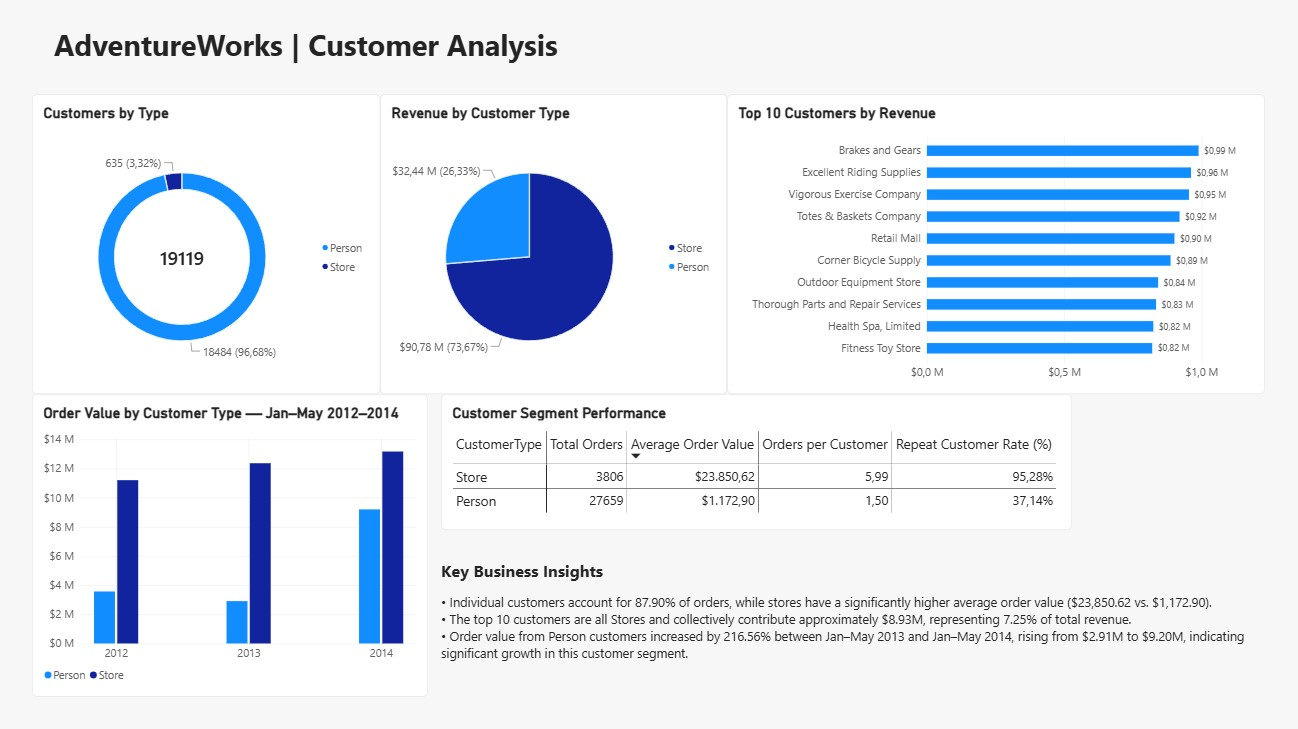

This screenshot's page, from the dashboard's own definition file:
{"tool":"powerbi","page":{"name":"Customer Analysis","canvas":[1920,1080],"ordinal":2},"visuals":[{"type":"donutChart","title":"Customers by Type","fields":{"Category":["DimCustomer.CustomerType"],"Y":["FactSalesOrders.Total Customers"]},"box":[50.2,141.7,513.6,442.7],"z":0},{"type":"textbox","box":[83.3,40.1,829.7,109.5],"z":1000},{"type":"clusteredBarChart","title":"Top 10 Customers by Revenue","fields":{"Category":["DimCustomer.CustomerName"],"Y":["FactSalesOrders.Total Revenue"]},"box":[1075.8,141.7,794,442.7],"z":2000},{"type":"pieChart","title":"Revenue by Customer Type","fields":{"Category":["DimCustomer.CustomerType"],"Y":["FactSalesOrders.Total Revenue"]},"box":[563.8,141.7,512.1,442.7],"z":3000},{"type":"textbox","box":[653.8,827.9,1216,252.4],"z":4000},{"type":"pivotTable","title":"Customer Segment Performance","fields":{"Rows":["DimCustomer.CustomerType"],"Values":["FactSalesOrders.Total Orders","FactSalesOrders.Average Order Value","FactSalesOrders.Orders per Customer","FactSalesOrders.Repeat Customer Rate (%)"]},"box":[653.8,584.4,931.2,200.7],"z":5000},{"type":"clusteredColumnChart","title":"Order Value by Customer Type — Jan–May 2012–2014","fields":{"Category":["DimDate.Year"],"Series":["DimCustomer.CustomerType"],"Y":["FactSalesOrders.Revenue Jan-May"]},"box":[50.2,584.4,584.4,447.2],"z":6000}]}

Visuals, with their boxes in screenshot pixels (x1, y1, x2, y2), scaled from the page's 1920x1080 canvas onto the 1298x729 screenshot:
"Customers by Type" donutChart: 34/96/381/394
textbox: 56/27/617/101
"Top 10 Customers by Revenue" clusteredBarChart: 727/96/1264/394
"Revenue by Customer Type" pieChart: 381/96/727/394
textbox: 442/559/1264/728
"Customer Segment Performance" pivotTable: 442/394/1072/530
"Order Value by Customer Type — Jan–May 2012–2014" clusteredColumnChart: 34/394/429/696
